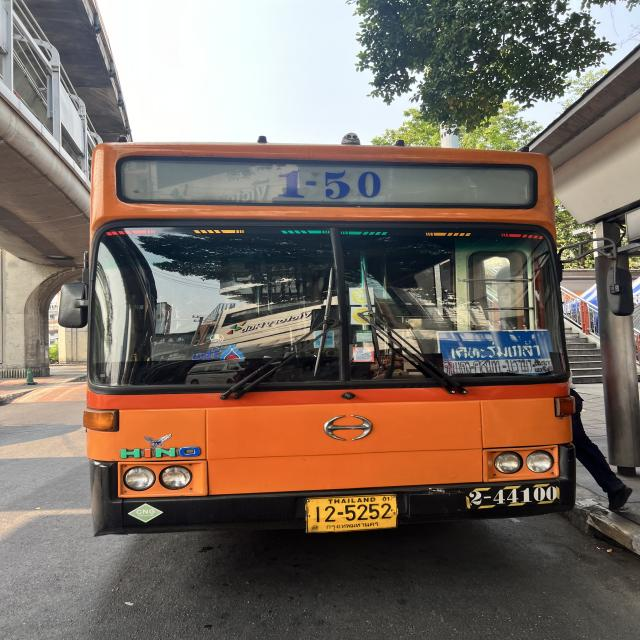BMTA-bus: (82, 141, 579, 539)
Bus-Line-Number: (269, 164, 388, 200)
Destination-Sign-Normal: (437, 329, 552, 374)
